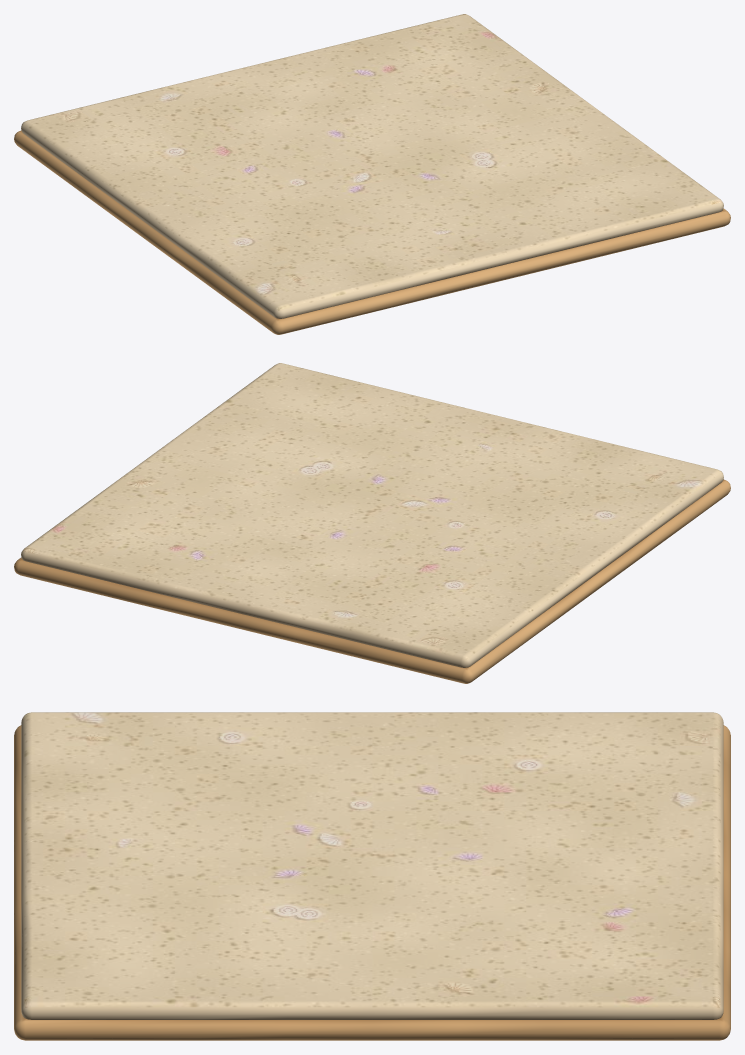
File: tile_sand.glb
3 renders of one model, top to bottom at view 1: azimuth 30°, elevation 25°; view 2: azimuth 150°, elevation 25°; view 3: azimuth 270°, elevation 25°, orthographic. The views are drawn at different scales.
Parts seen in each view (by area): view 1: tile_top, tile_base; view 2: tile_top, tile_base; view 3: tile_top, tile_base.
Boxes of the visible parts, x1,y1,x2,y2 form: tile_top: [21, 14, 723, 318]; tile_base: [14, 130, 730, 334]; tile_top: [21, 363, 723, 667]; tile_base: [14, 479, 730, 683]; tile_top: [21, 712, 723, 1019]; tile_base: [14, 725, 730, 1040].
Size of the model in its own units: 4 by 0.22 by 4.
Materials: 3 (1 with a texture image).
